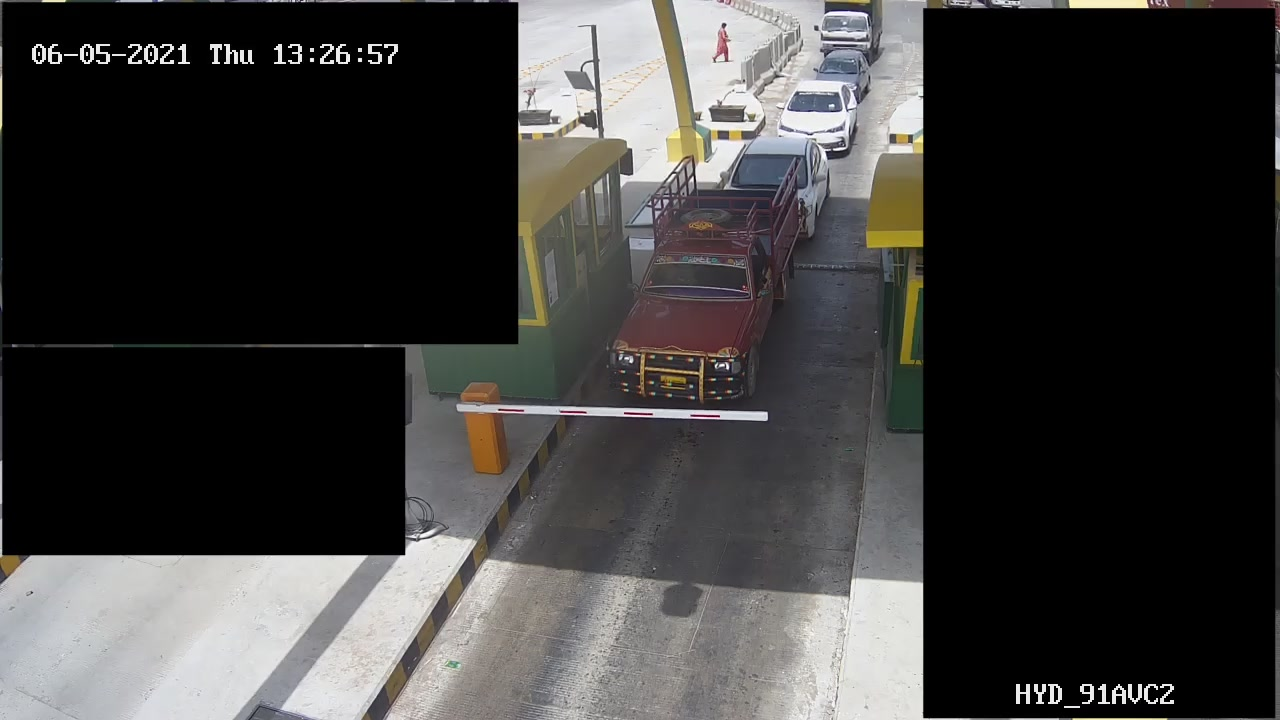F1: (595, 151, 813, 410)
